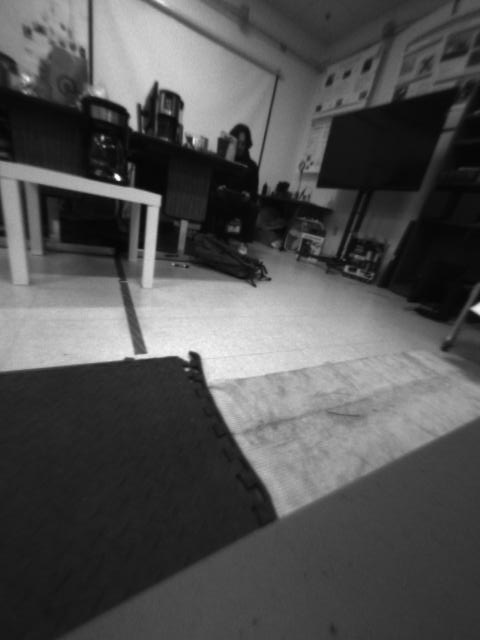coffee_pot: (83, 94, 132, 189)
